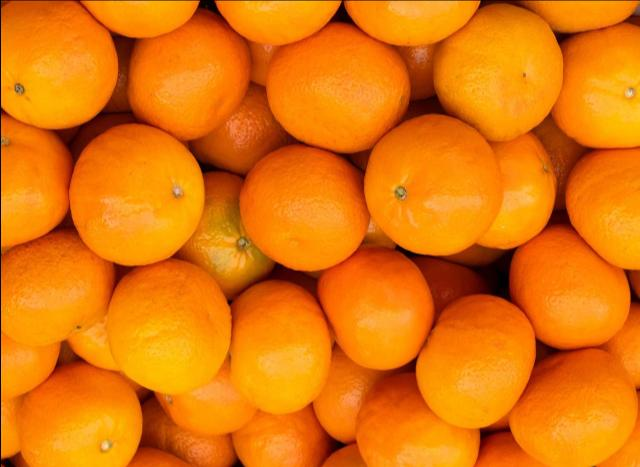Oranges: (364, 114, 502, 256), (68, 124, 202, 266), (266, 26, 408, 152), (433, 3, 561, 140), (106, 262, 230, 394), (239, 145, 365, 270), (417, 296, 535, 428), (0, 1, 116, 130), (128, 16, 248, 140), (509, 349, 635, 467), (507, 226, 627, 348), (317, 247, 431, 369), (230, 281, 328, 415), (18, 365, 142, 466), (0, 234, 110, 346), (354, 374, 478, 466), (554, 23, 640, 148), (0, 118, 70, 244)
